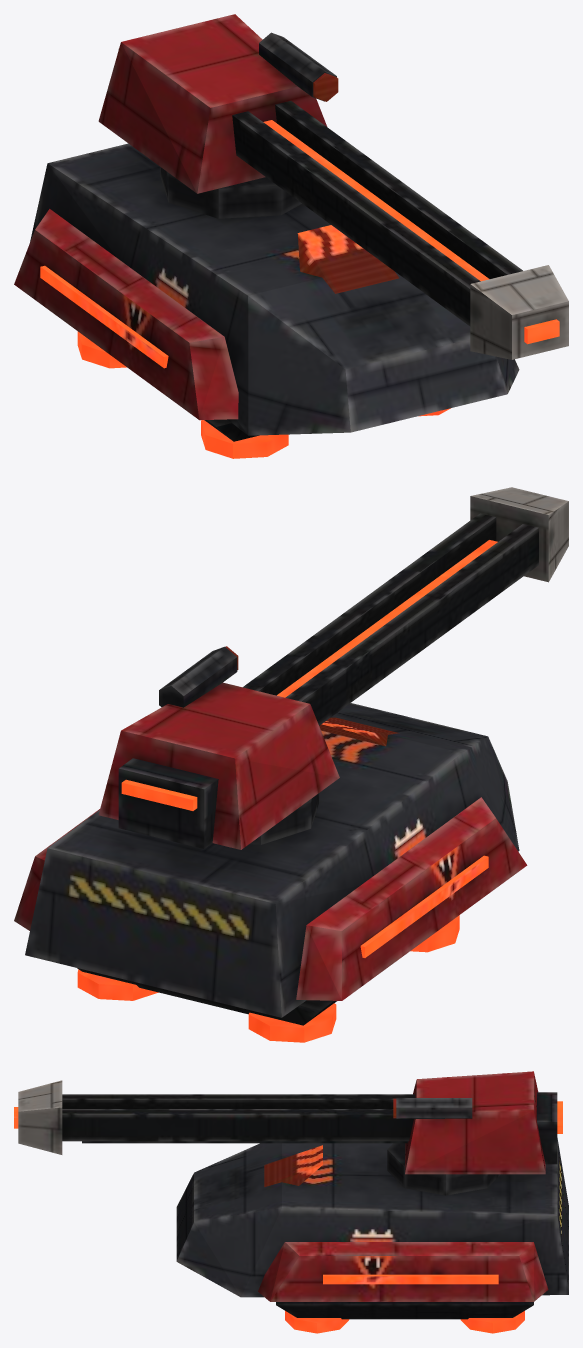
File: u_lancer1_e.glb
3 renders of one model, top to bottom at view 1: azimuth 30°, elevation 25°; view 2: azimuth 150°, elevation 25°; view 3: azimuth 270°, elevation 25°, orthographic. The views are drawn at different scales.
Parts seen in each view (by area): view 1: u_lancer1_e; view 2: u_lancer1_e; view 3: u_lancer1_e.
Boxes of the visible parts, x1,y1,x2,y2 form: u_lancer1_e: (14,14,568,458); u_lancer1_e: (14,487,568,1042); u_lancer1_e: (14,1071,568,1333).
Size of the model in its own units: 0.92 by 0.79 by 1.89.
Materials: 1 (1 with a texture image).
